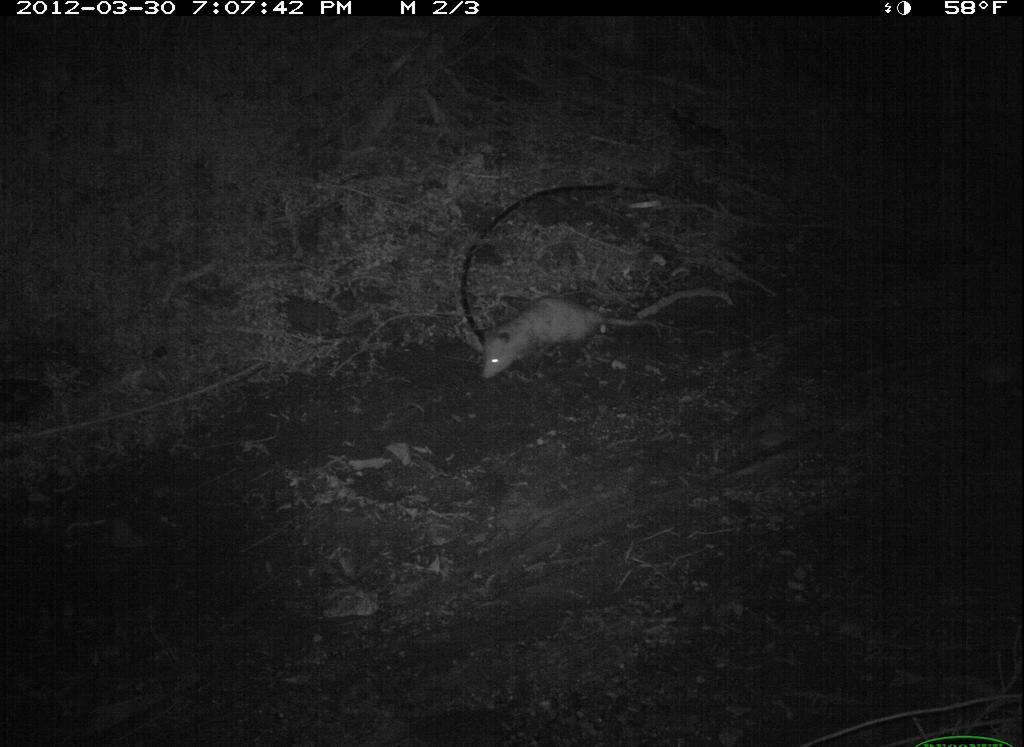opossum: (472, 283, 678, 391)
